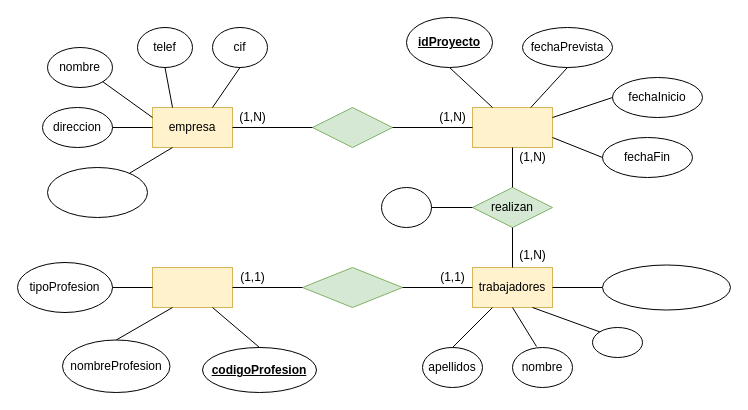
Image size: 748x410. Some labels were removed from this diagram. The box of each missing label's shape, as (x1, y1, x2, y2) in pixels:
codigoInterno: (46, 166, 148, 218)
codigoTrabajador: (602, 264, 730, 310)
crea: (312, 106, 392, 148)
desempeña: (302, 266, 402, 308)
DNI: (592, 326, 642, 358)
horas: (380, 186, 432, 228)
profesion: (152, 266, 232, 308)
proyectos: (472, 106, 552, 148)
